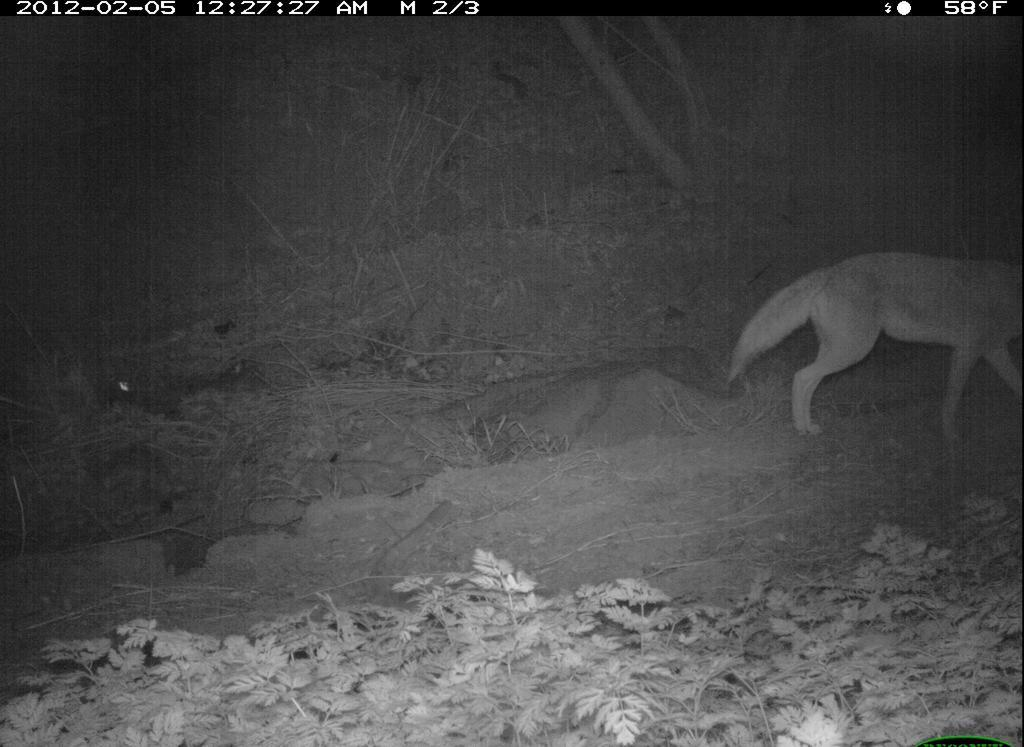coyote: (725, 241, 1021, 446)
